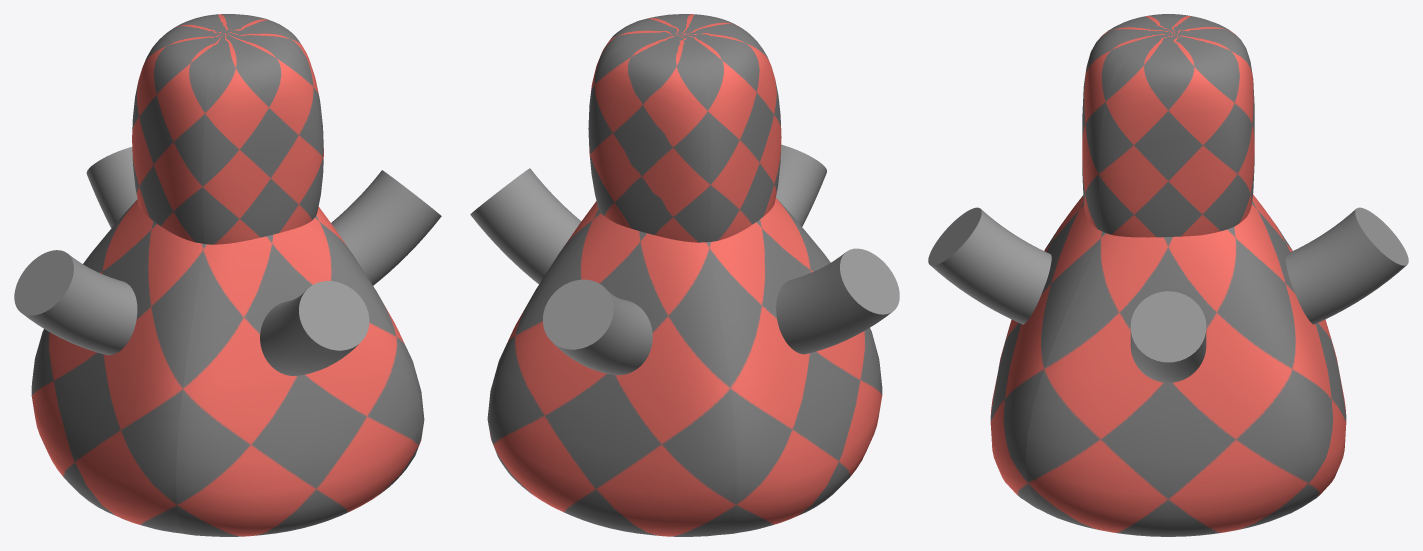
The model's file is Body(Pyramidal)+Colour(More_Red)+Pattern(Diamond)+Arm_Angle(Bent_Up)+Hat(Oblong).fbx.
3 renders of one model, left to right at view 1: azimuth 30°, elevation 25°; view 2: azimuth 150°, elevation 25°; view 3: azimuth 270°, elevation 25°, orthographic.
Parts seen in each view (by area): view 1: Body(Pyramidal)+Colour(More_Red)+Pattern(Diamond)+Arm_Angle( (×6); view 2: Body(Pyramidal)+Colour(More_Red)+Pattern(Diamond)+Arm_Angle( (×6); view 3: Body(Pyramidal)+Colour(More_Red)+Pattern(Diamond)+Arm_Angle( (×5).
Part boxes in pixels (bbox=[...]): Body(Pyramidal)+Colour(More_Red)+Pattern(Diamond)+Arm_Angle( (×6): bbox=[14, 14, 441, 536]; Body(Pyramidal)+Colour(More_Red)+Pattern(Diamond)+Arm_Angle( (×6): bbox=[470, 14, 899, 536]; Body(Pyramidal)+Colour(More_Red)+Pattern(Diamond)+Arm_Angle( (×5): bbox=[928, 14, 1408, 536].
Size of the model in its own units: 50.67 by 53 by 50.67.
Materials: 2 (1 with a texture image).
